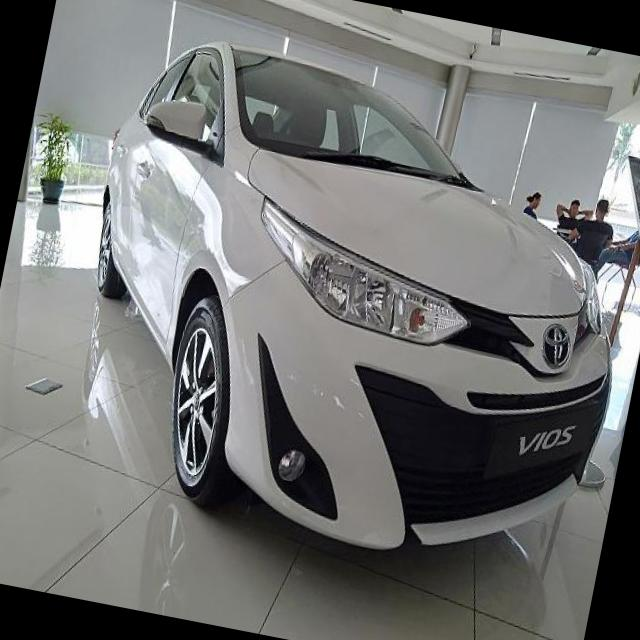ToyotaVios: (43, 21, 640, 590)
